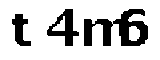4: (44, 6, 81, 49)
6: (118, 2, 151, 53)
m: (82, 16, 126, 49)
t: (7, 11, 35, 49)
